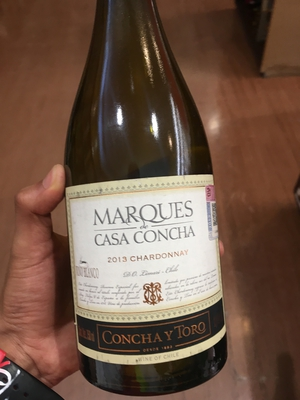marques de casa concha chardonnay: (55, 13, 239, 373)
